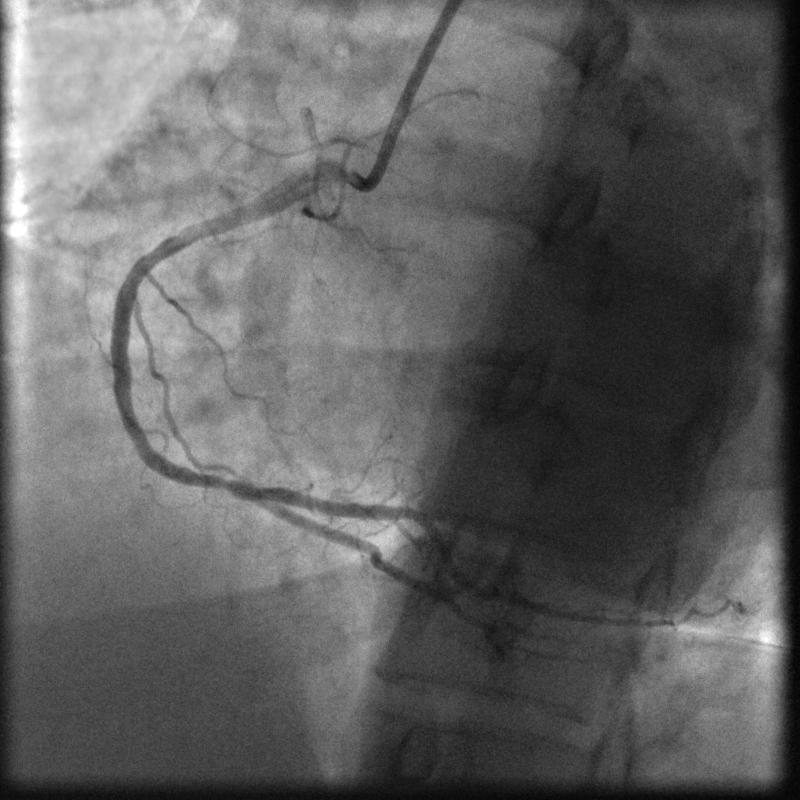Stenosis: (199, 466, 256, 501)
